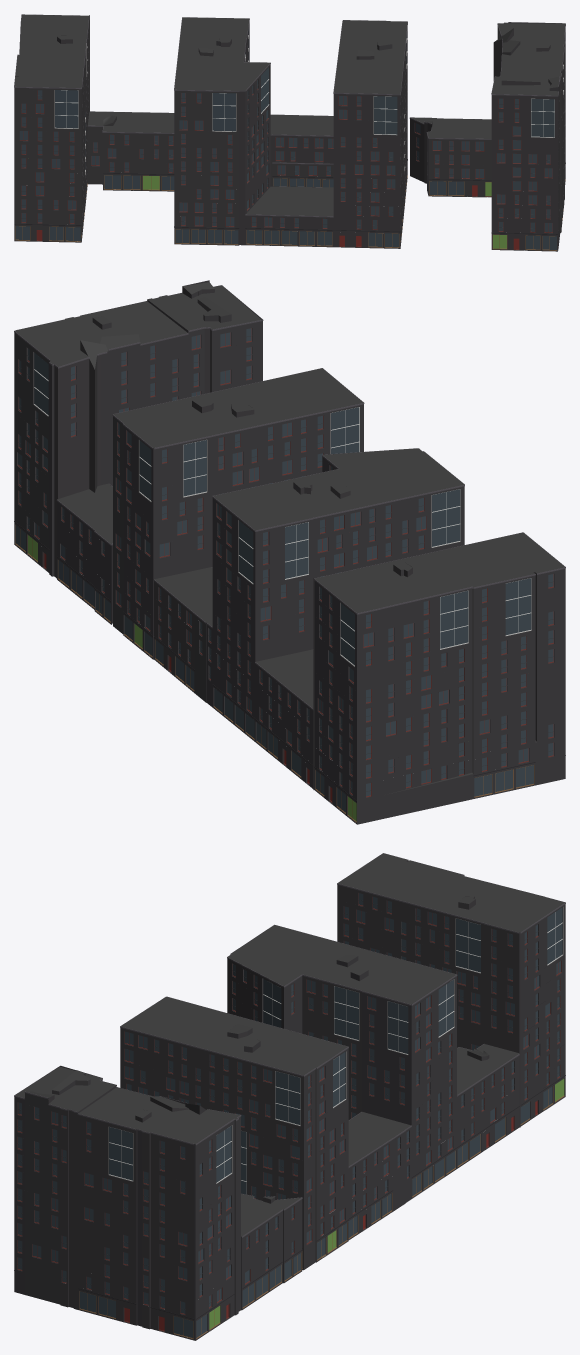
The model's file is albatrospad-1.glb.
3 renders of one model, top to bottom at view 1: azimuth 30°, elevation 25°; view 2: azimuth 150°, elevation 25°; view 3: azimuth 270°, elevation 25°, orthographic. The views are drawn at different scales.
Parts seen in each view (by area): view 1: albatrospad-1; view 2: albatrospad-1; view 3: albatrospad-1.
Part boxes in pixels (x1,y1,x2,y2): albatrospad-1: (14,14,565,251); albatrospad-1: (14,280,565,824); albatrospad-1: (14,853,565,1340).
Size of the model in its own units: 106 by 34.47 by 84.15.
